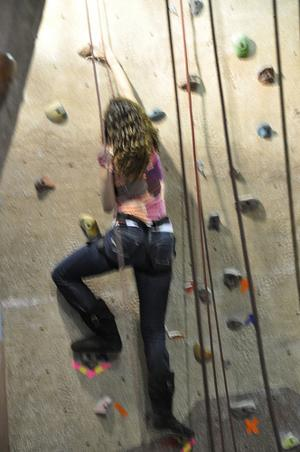person: (52, 94, 196, 441)
